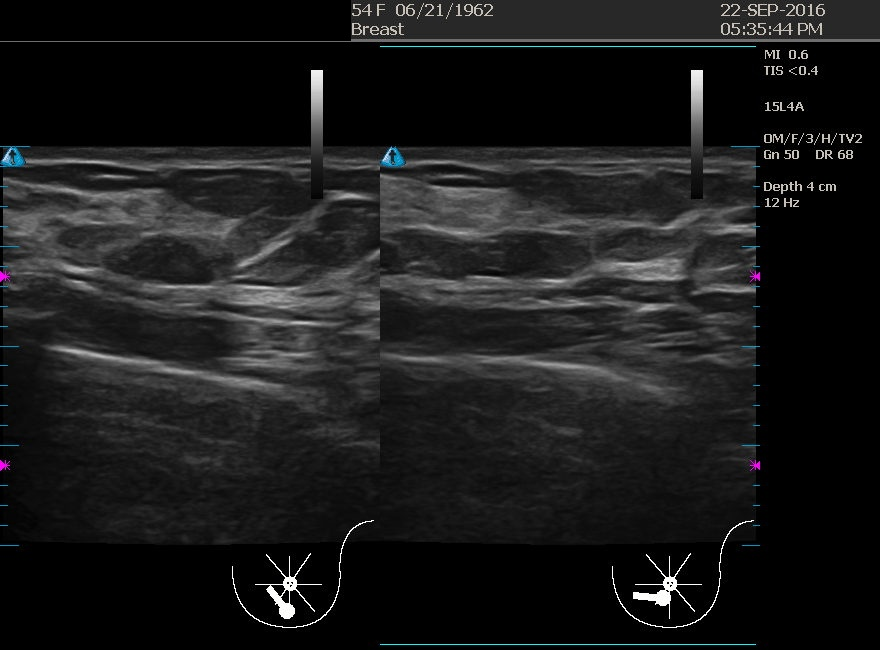Benign: (66, 180, 266, 380), (423, 179, 623, 379)
